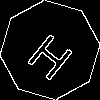H: (25, 25, 81, 83)
